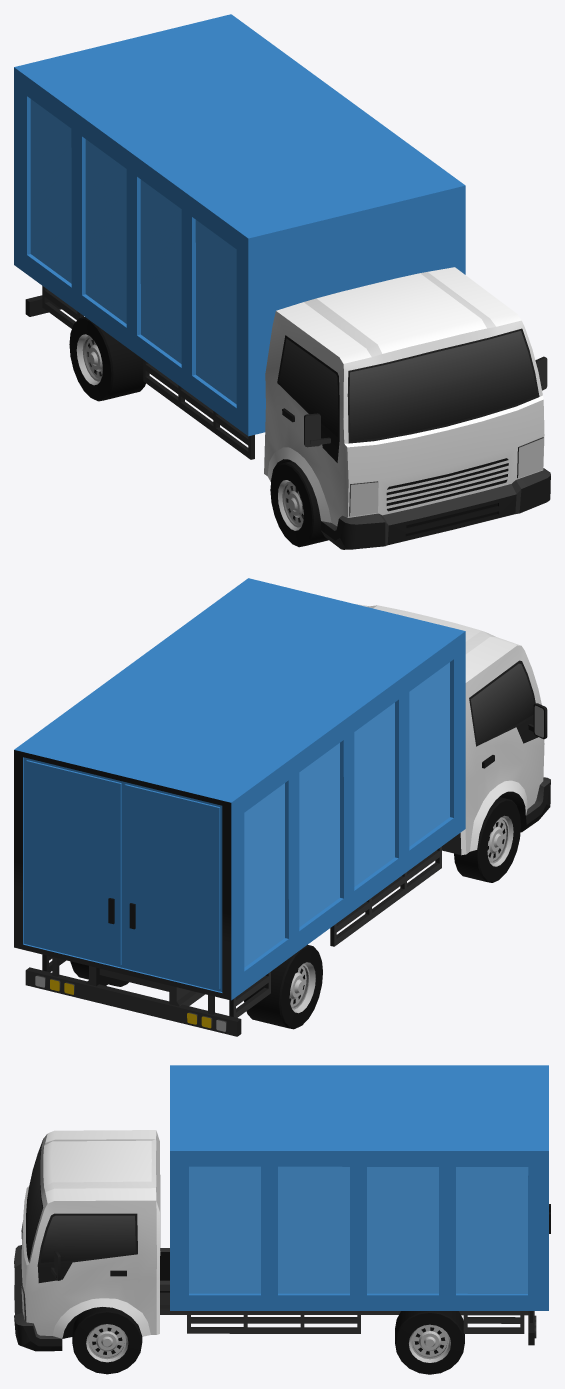
The model's file is truck.fbx.
3 views of the same model, one above another, from view 1: azimuth 30°, elevation 25°; view 2: azimuth 150°, elevation 25°; view 3: azimuth 270°, elevation 25° (orthographic). The views are drawn at different scales.
Parts seen in each view (by area): view 1: Body, newRearRightWheel, newFrontRightWheel; view 2: Body, newRearRightWheel, newFrontRightWheel; view 3: Body, newRearLeftWheel, newFrontLeftWheel.
Part boxes in pixels (x1,y1,x2,y2): Body: [14, 14, 550, 549]; newRearRightWheel: [69, 317, 145, 401]; newFrontRightWheel: [270, 461, 328, 547]; Body: [14, 578, 550, 1036]; newRearRightWheel: [244, 944, 322, 1029]; newFrontRightWheel: [454, 797, 520, 882]; Body: [14, 1065, 550, 1351]; newRearLeftWheel: [395, 1311, 464, 1374]; newFrontLeftWheel: [72, 1307, 142, 1374].
Size of the model in its own units: 199 by 218 by 471.
